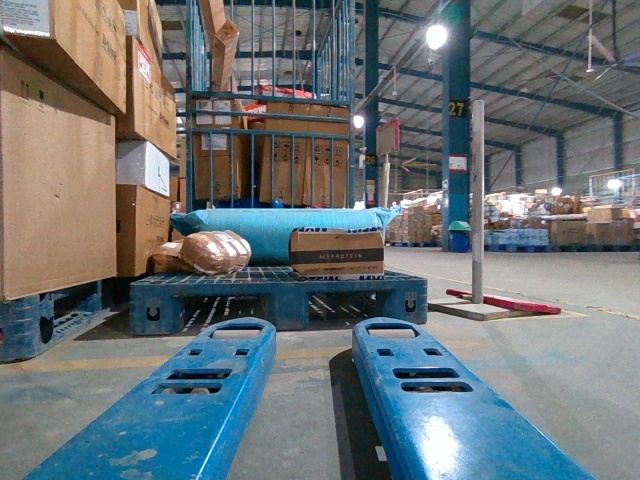block: (131, 282, 184, 335), (267, 280, 308, 330), (391, 276, 429, 326)
front: (132, 280, 426, 331)
hole pallet: (179, 293, 268, 332), (308, 288, 387, 328)
